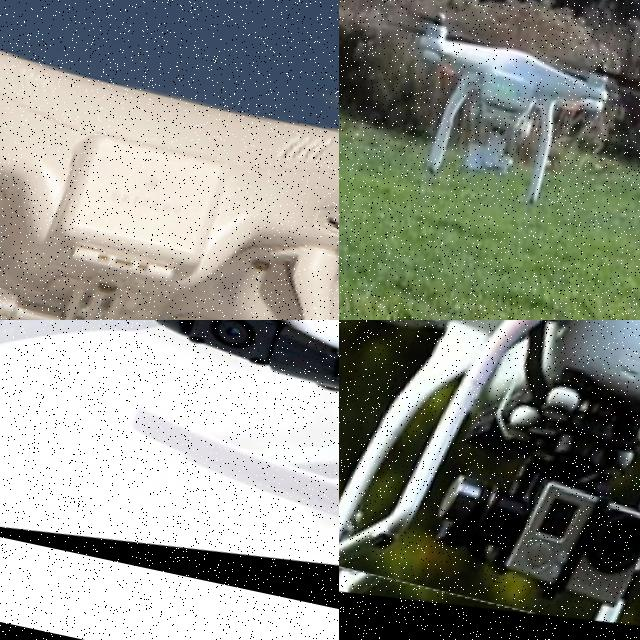0: (0, 0, 339, 320), (339, 320, 640, 640)
drone: (0, 320, 339, 640)
